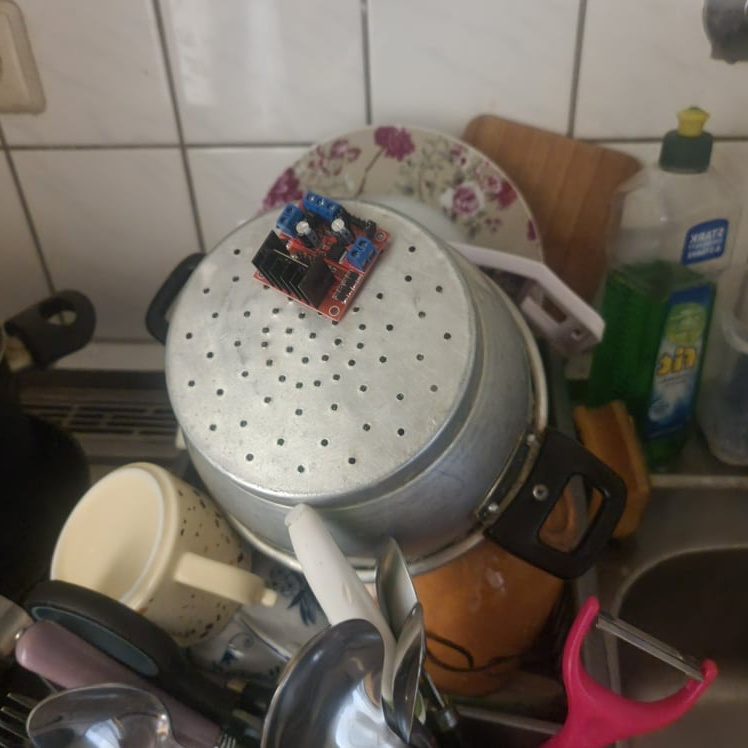MOTOR: (248, 191, 391, 326)
